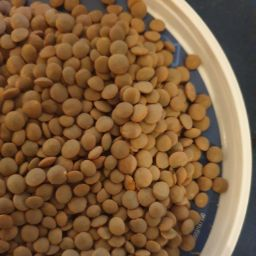Black Lentil(masoor daal): (2, 6, 217, 256), (13, 52, 155, 251)
